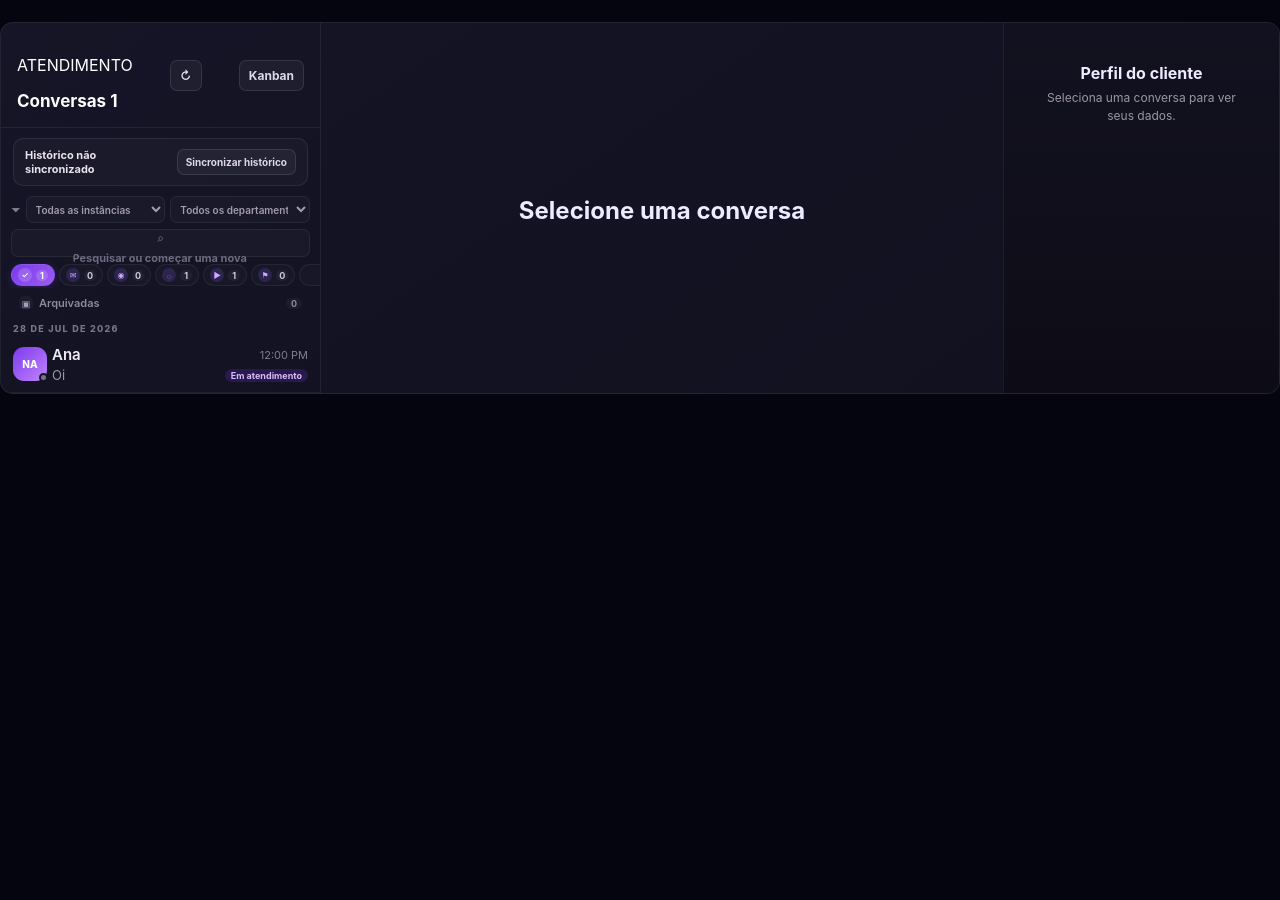
Test: escolha de contato para envio › abre a janela flutuante já carregando a última sincronização, com o sync no cabeçalho e sem prompt
Click the button with class "conversation-item".
click(30, 364)  # box 1,336 -> 320,393
(page scrolled)
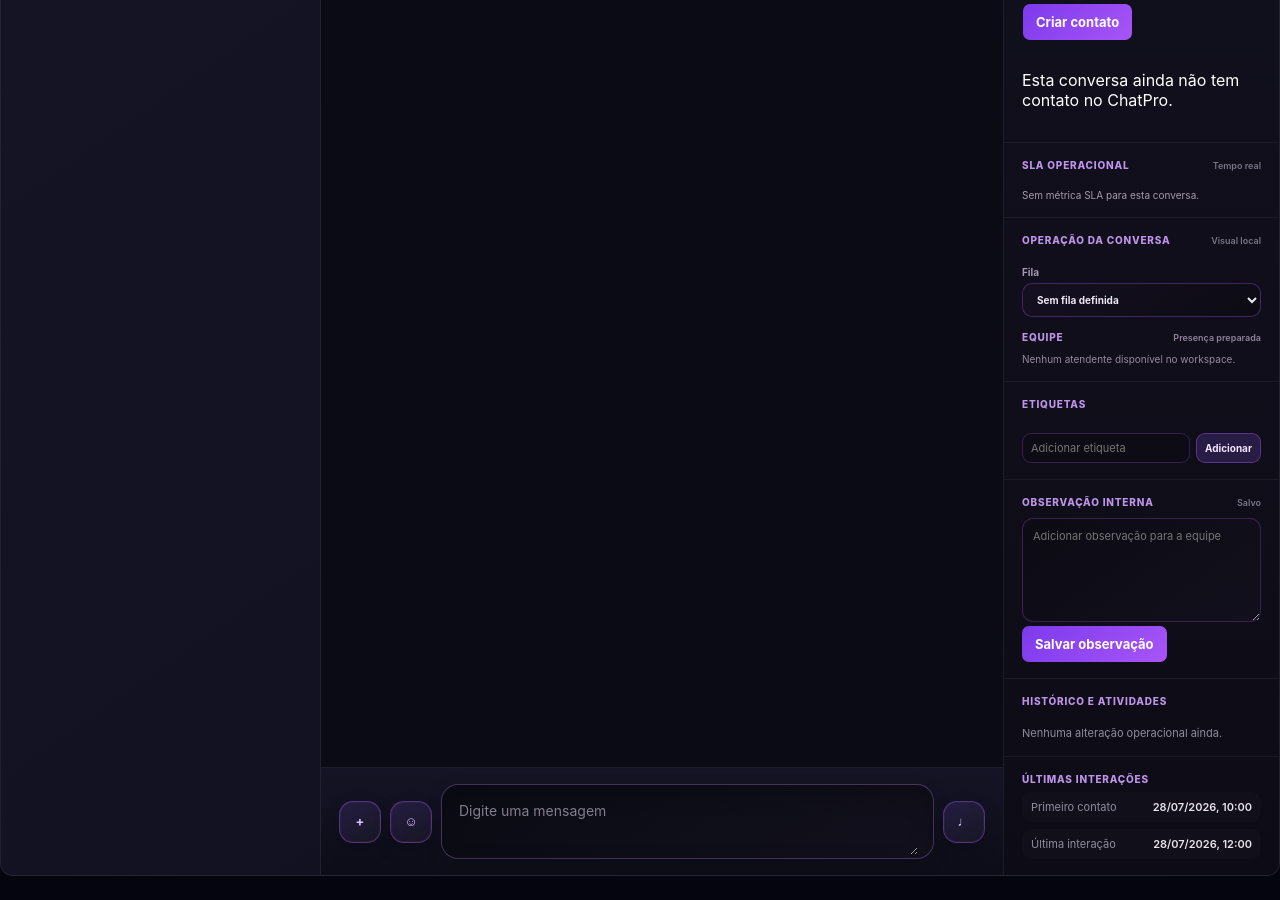
Click the button named "Adicionar anexo".
click(360, 822)  # box 339,801 -> 381,843
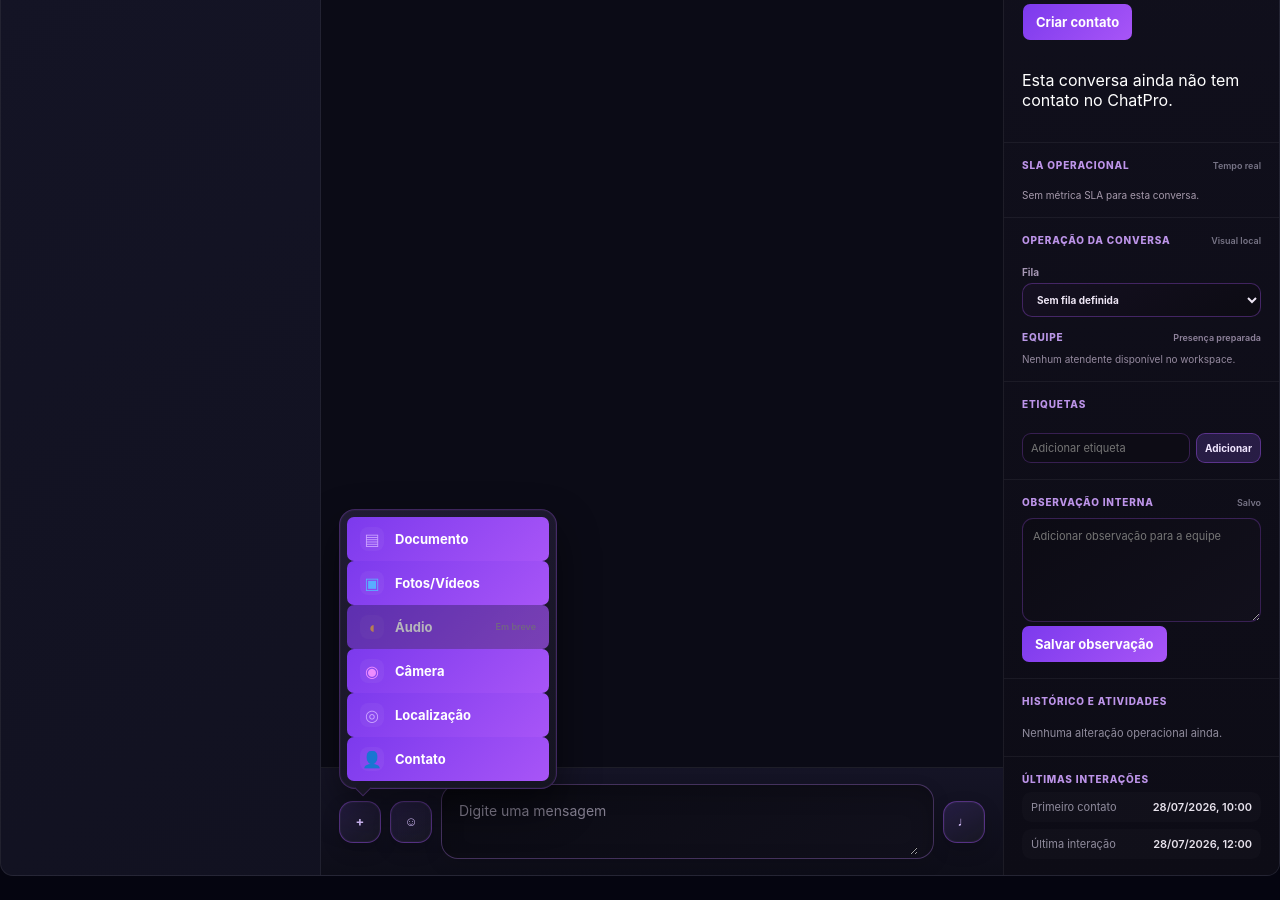
Click the text "Contato".
click(420, 759)  # box 395,751 -> 446,767
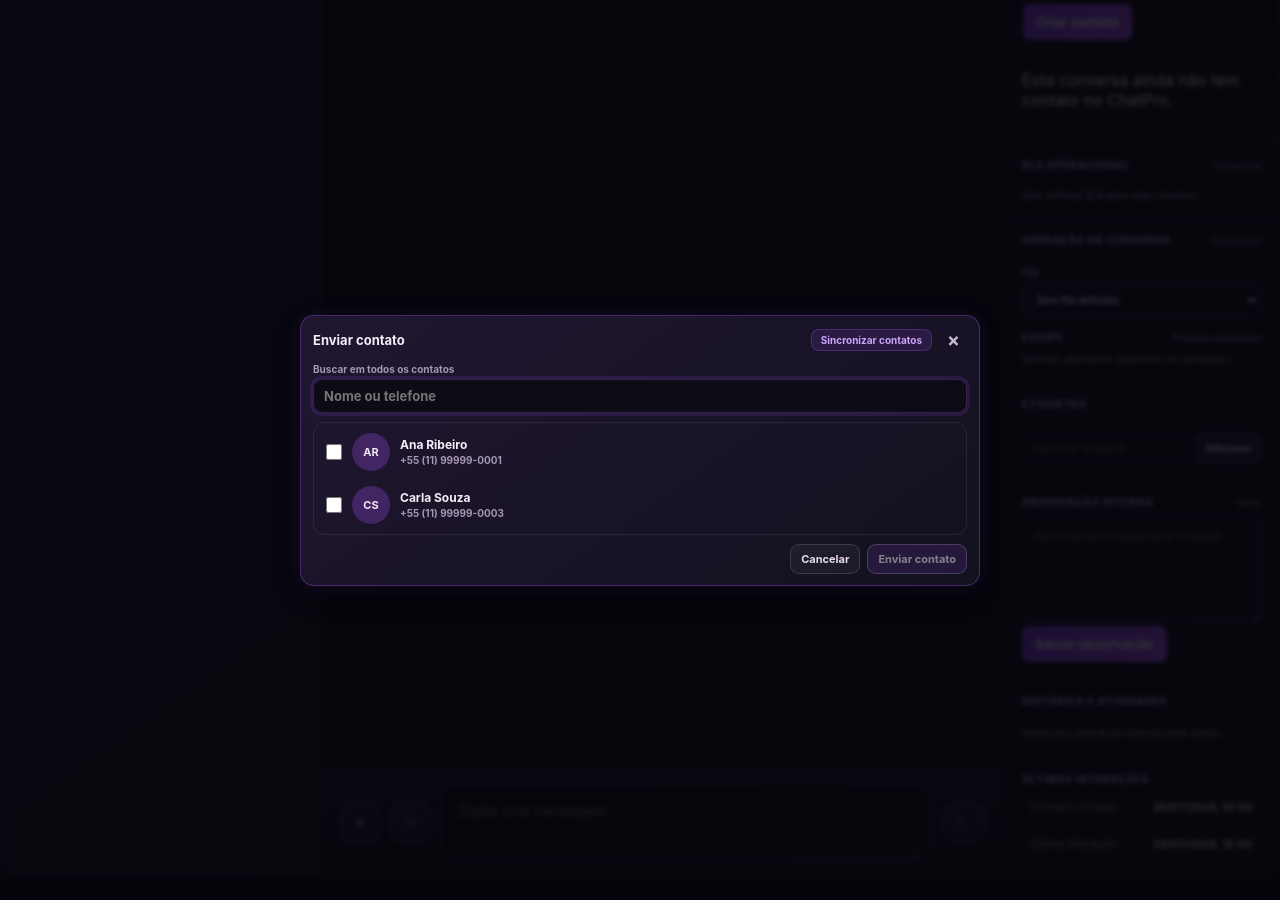
Check: the dialog "Enviar contato" is shown, box 300,314 -> 980,586
Check: the element with class "composer-contact-overlay" is shown
Check: the button "Sincronizar contatos" is shown, box 811,329 -> 932,351
